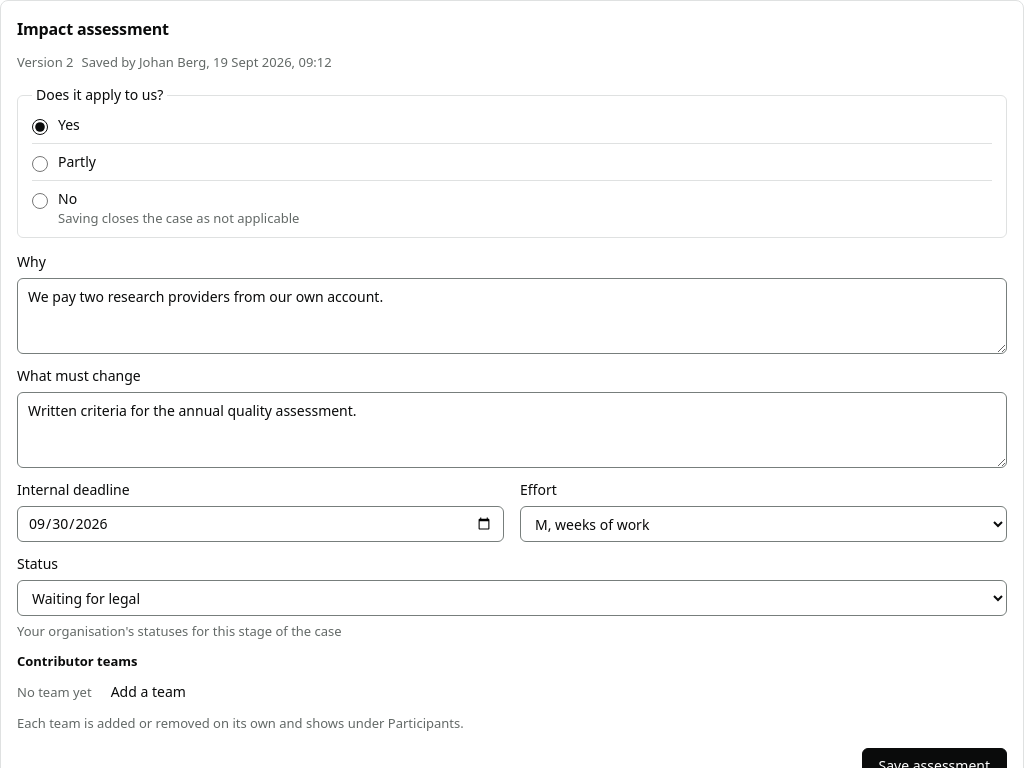
Test: the assessment form › saves the whole assessment as keys and dates, with what the person typed
Click the radio button labelled "Partly": (40, 164) [32, 156, 48, 172]
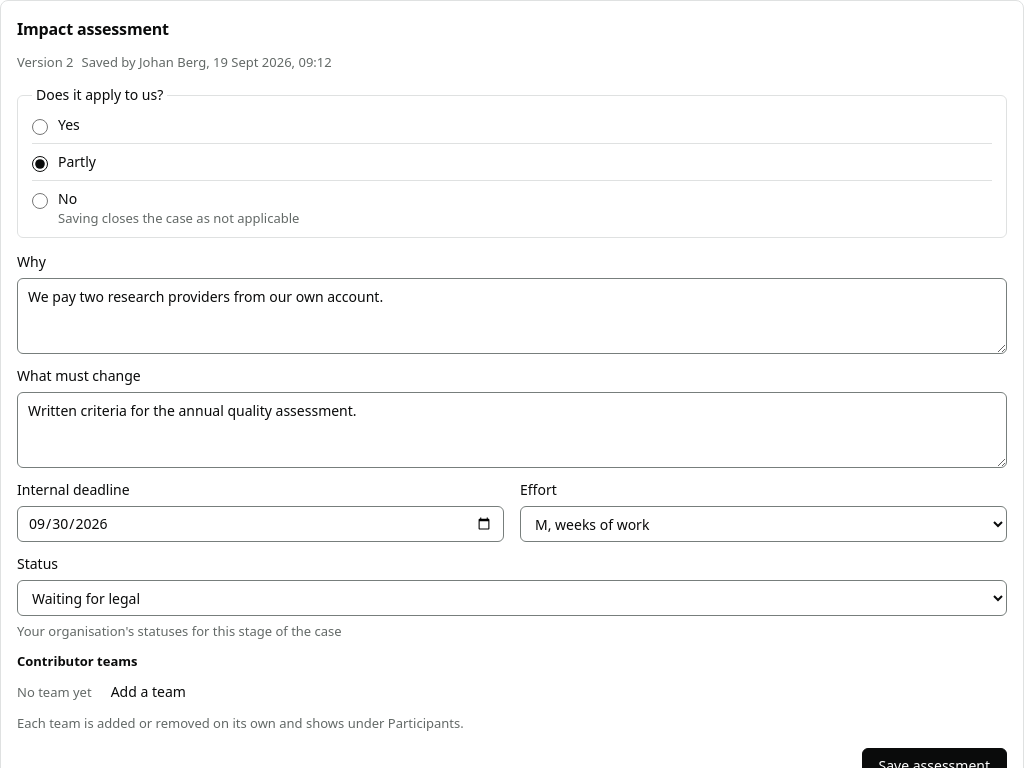
Replace the text in the text box labelled "Why" with "  Only the discretionary portfolios.  ": (512, 316) [17, 278, 1007, 354]
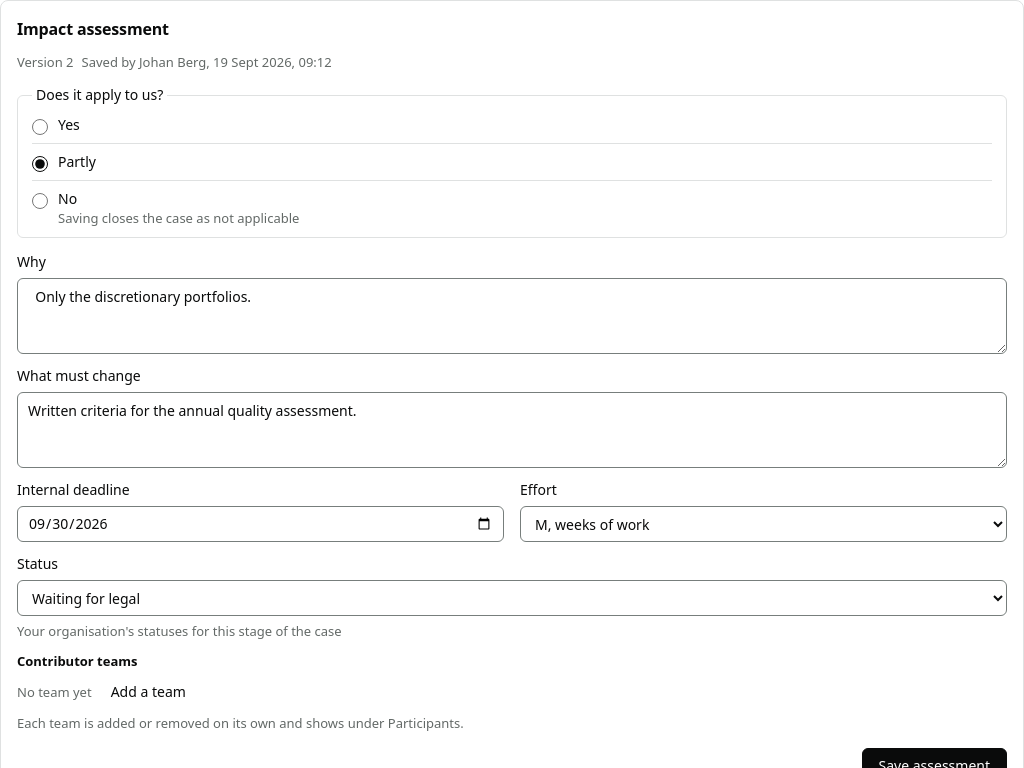
Select "S, days of work" in the dropdown labelled "Effort": (764, 524) [520, 506, 1007, 542]
(page scrolled)
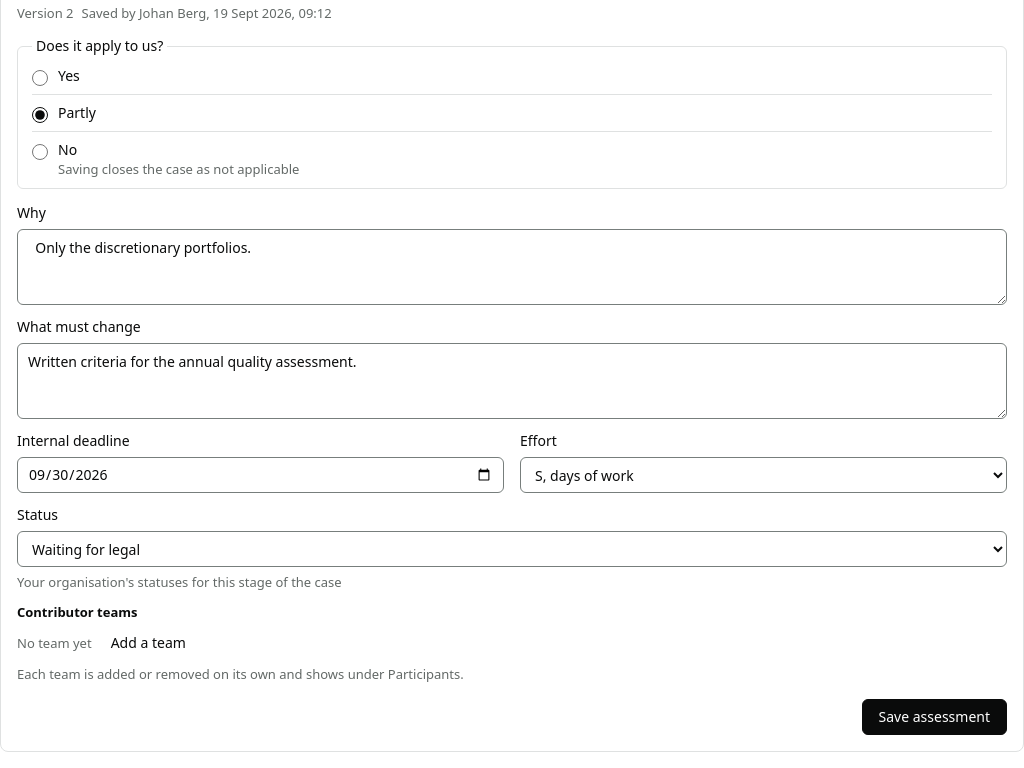
Click the button "Save assessment": (934, 717) [862, 699, 1007, 735]
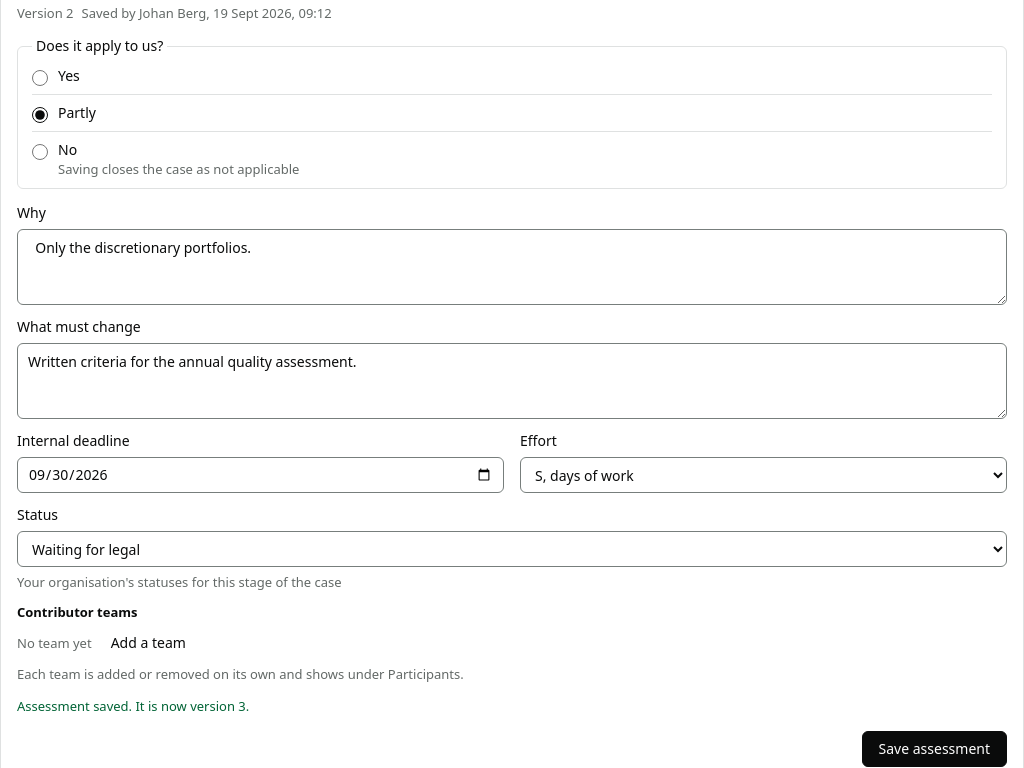
Expected: the text "Assessment saved. It is now version 3." is shown, [17, 697, 249, 715]
